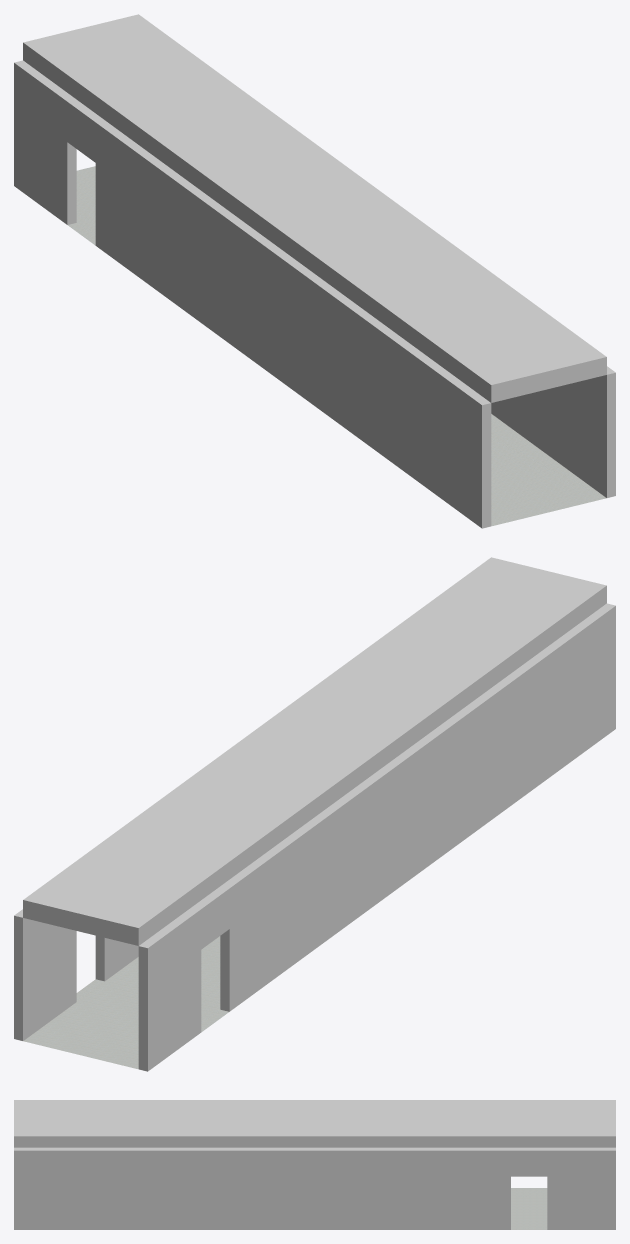
Rendered from pasillo_etsii_nv2.fbx.
3 views of the same model, one above another, from view 1: azimuth 30°, elevation 25°; view 2: azimuth 150°, elevation 25°; view 3: azimuth 270°, elevation 25° (orthographic). The views are drawn at different scales.
Parts seen in each view (by area): view 1: Model; view 2: Model; view 3: Model.
Part boxes in pixels (x1,y1,x2,y2): Model: [14, 14, 615, 528]; Model: [14, 557, 615, 1071]; Model: [14, 1100, 615, 1229].
Size of the model in its own units: 4.54 by 4.58 by 27.51.
